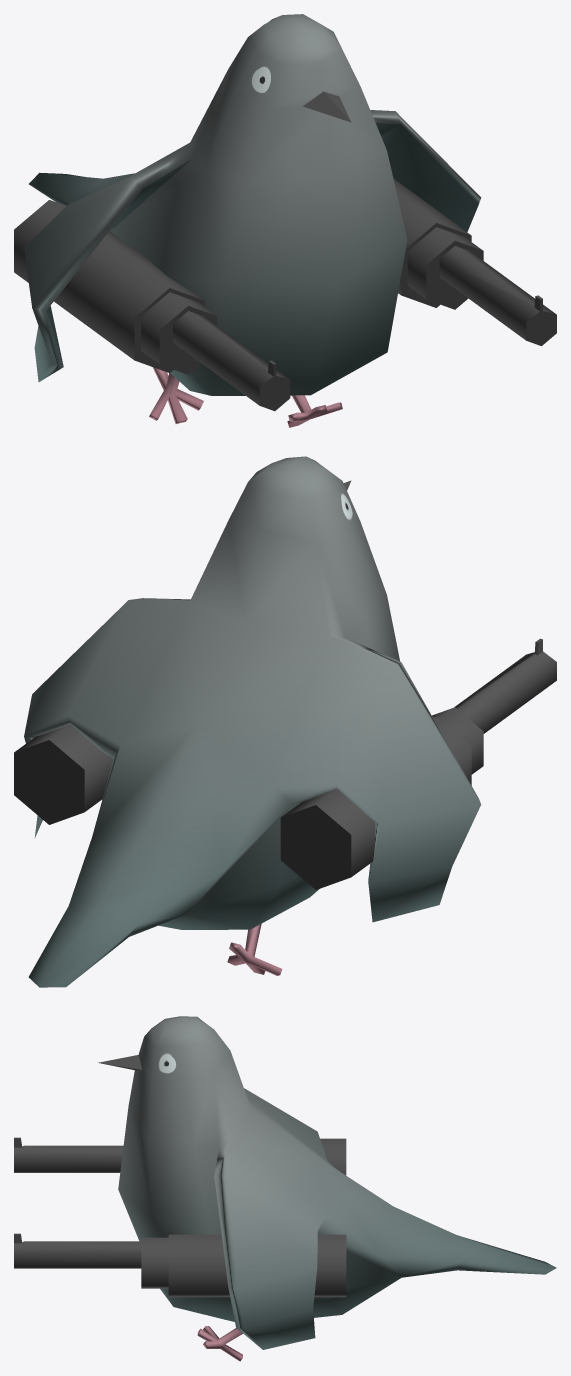
The model's file is hato.fbx.
3 renders of one model, top to bottom at view 1: azimuth 30°, elevation 25°; view 2: azimuth 150°, elevation 25°; view 3: azimuth 270°, elevation 25°, orthographic. The views are drawn at different scales.
Visible parts, largest first — view 1: hato; view 2: hato; view 3: hato.
Part boxes in pixels (box(x1,y1,x2,y2)): hato: box(14, 14, 556, 427); hato: box(14, 456, 556, 987); hato: box(14, 1016, 556, 1361).
Bounding box in the file's own units: 3.4 × 3.24 × 4.84.
